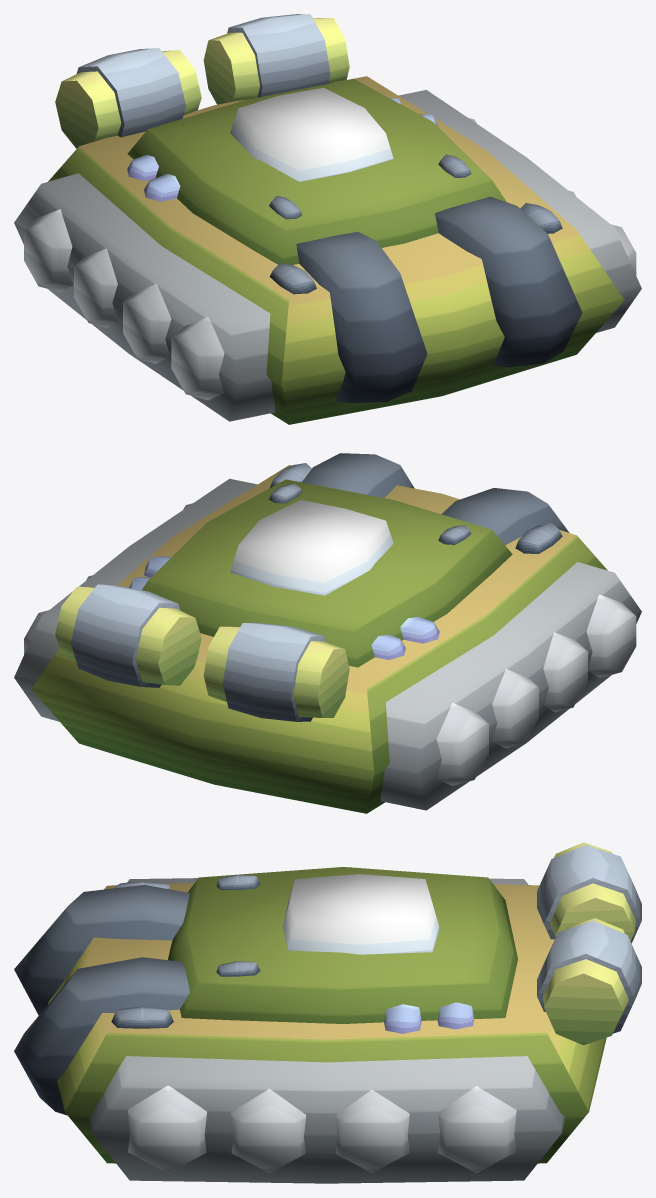
The model's file is tank-body_002.fbx.
The picture shows the model from 3 angles, top to bottom: view 1: azimuth 30°, elevation 25°; view 2: azimuth 150°, elevation 25°; view 3: azimuth 270°, elevation 25°; orthographic projection. The views are drawn at different scales.
Visible parts, largest first — view 1: tank-body.002; view 2: tank-body.002; view 3: tank-body.002.
Boxes of the visible parts, x1=… form: tank-body.002: x1=14, y1=14, x2=641, y2=424; tank-body.002: x1=14, y1=453, x2=641, y2=813; tank-body.002: x1=14, y1=842, x2=641, y2=1183.
Bounding box in the file's own units: 40.1 × 16.25 × 47.76.
